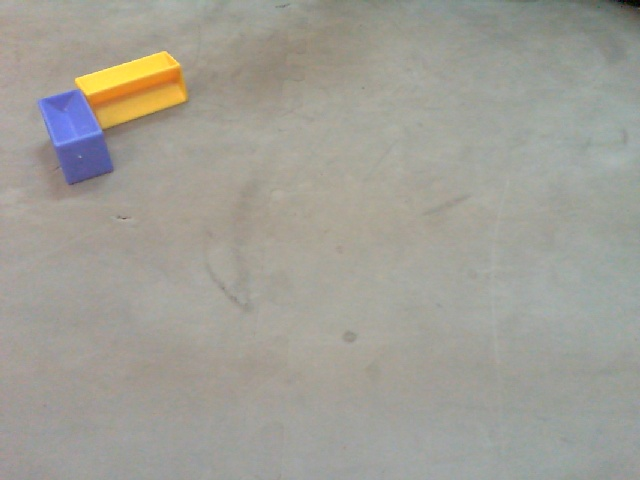BlueSample: (38, 89, 114, 189)
YellowSample: (72, 48, 189, 130)
